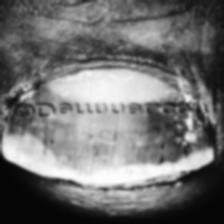Toxin: (14, 62, 205, 178)
